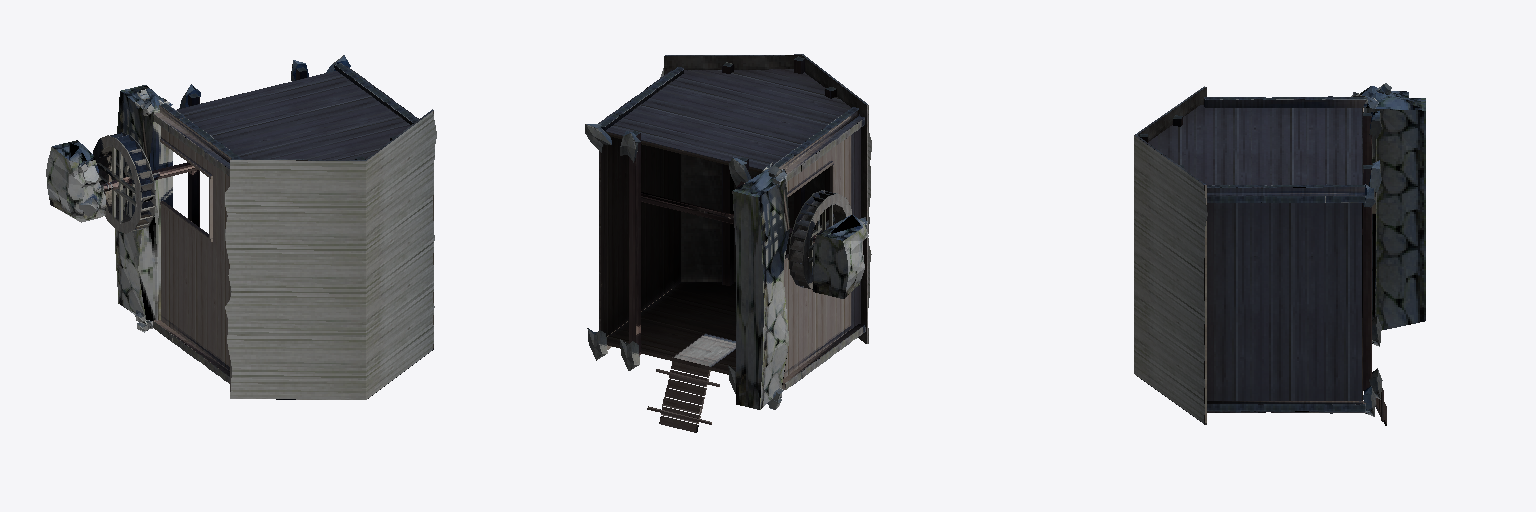
3 views of the same model, side by side, from view 1: azimuth 30°, elevation 25°; view 2: azimuth 150°, elevation 25°; view 3: azimuth 270°, elevation 25° (orthographic).
Visible parts, largest first — view 1: model; view 2: model; view 3: model.
Part boxes in pixels (x1,y1,x2,y2): model: (46, 55, 436, 399); model: (585, 54, 871, 432); model: (1134, 83, 1425, 425).
Bounding box in the file's own units: 6746 × 6353 × 5866.
Materials: 1 (1 with a texture image).